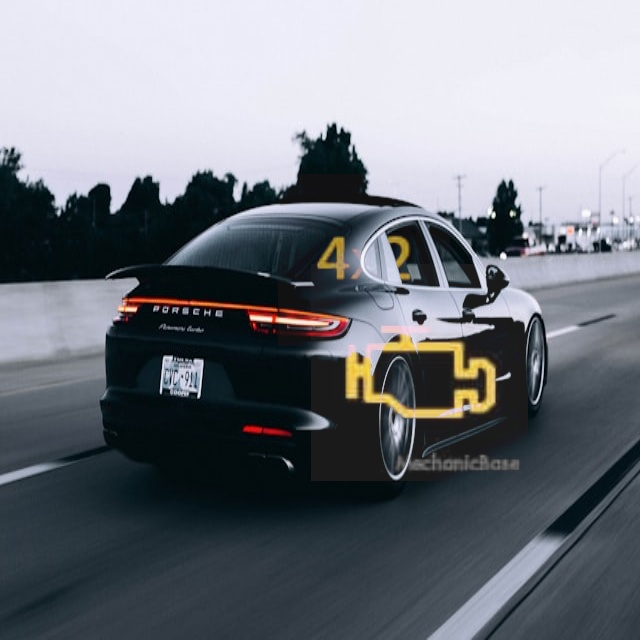symbol: (311, 264, 528, 481), (278, 174, 450, 346)
